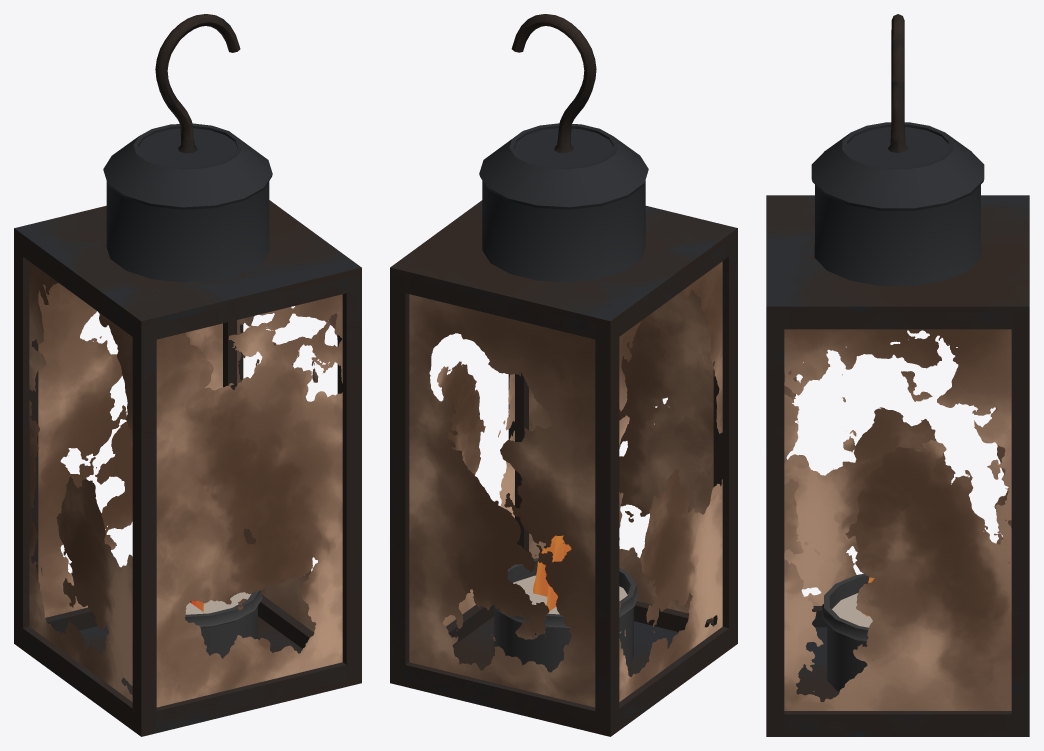
3 renders of one model, left to right at view 1: azimuth 30°, elevation 25°; view 2: azimuth 150°, elevation 25°; view 3: azimuth 270°, elevation 25°, orthographic. The views are drawn at different scales.
Parts seen in each view (by area): view 1: Lamparina; view 2: Lamparina; view 3: Lamparina.
Boxes of the visible parts, <box> form: Lamparina: <box>14,14,361,736</box>; Lamparina: <box>390,14,737,736</box>; Lamparina: <box>766,14,1029,736</box>.
Bounding box in the file's own units: 200 × 560 × 200.
